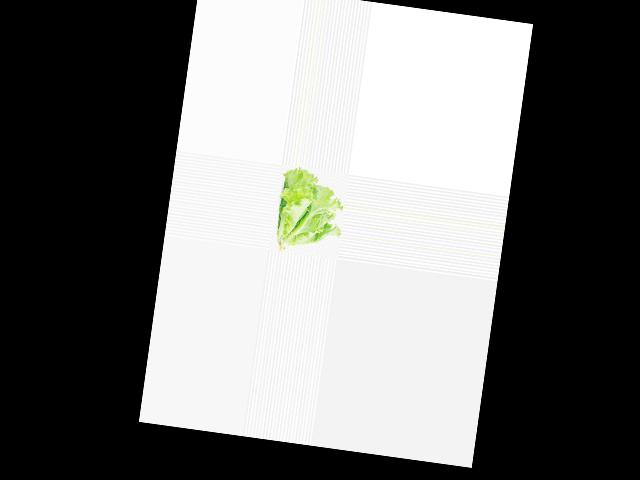lettuce: (274, 166, 348, 259)
